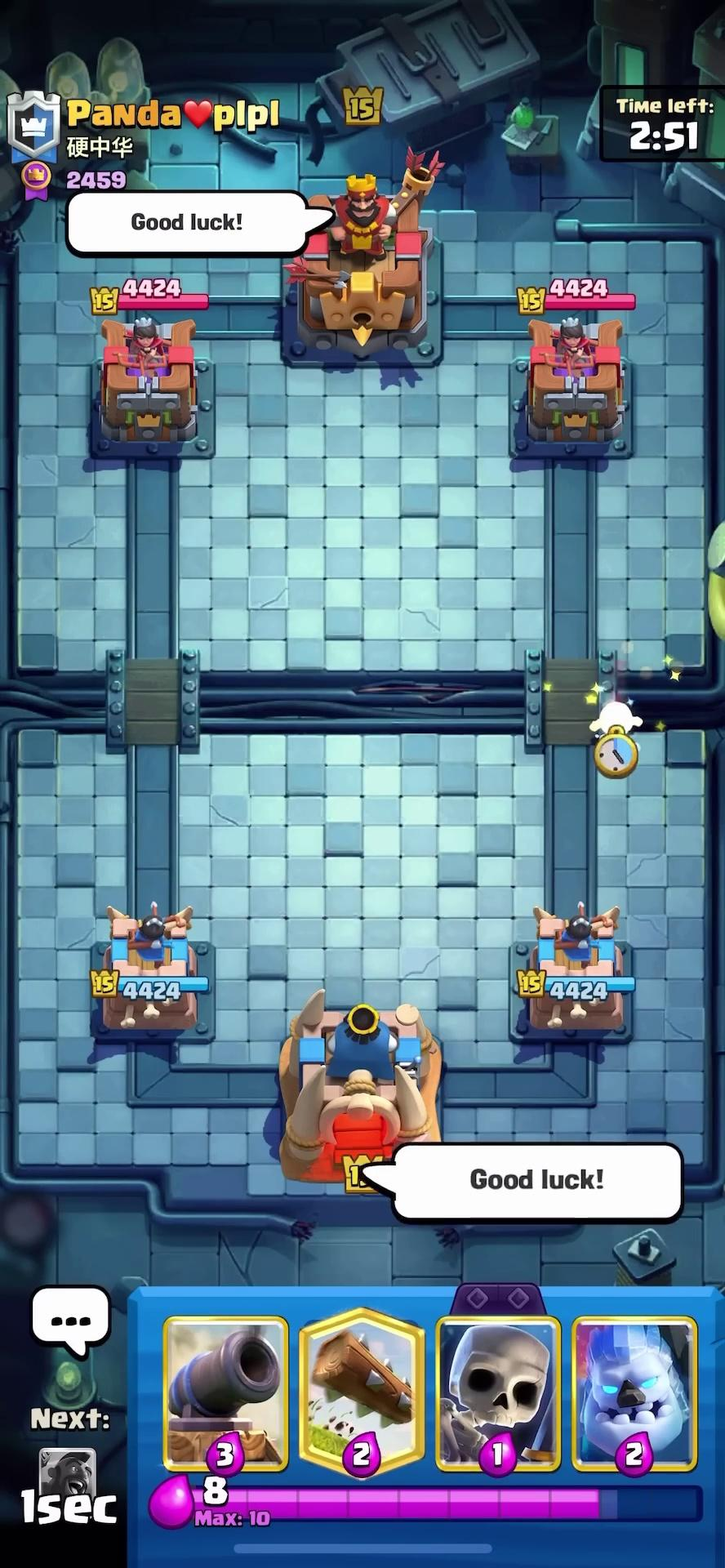ice_spirit: (584, 686, 647, 749)
